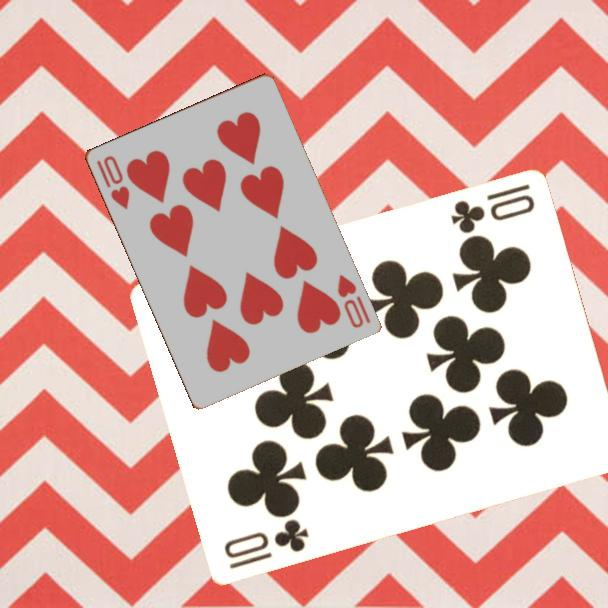c10: (447, 179, 538, 236), (221, 515, 312, 572)
h10: (333, 271, 373, 331), (93, 152, 132, 212)
